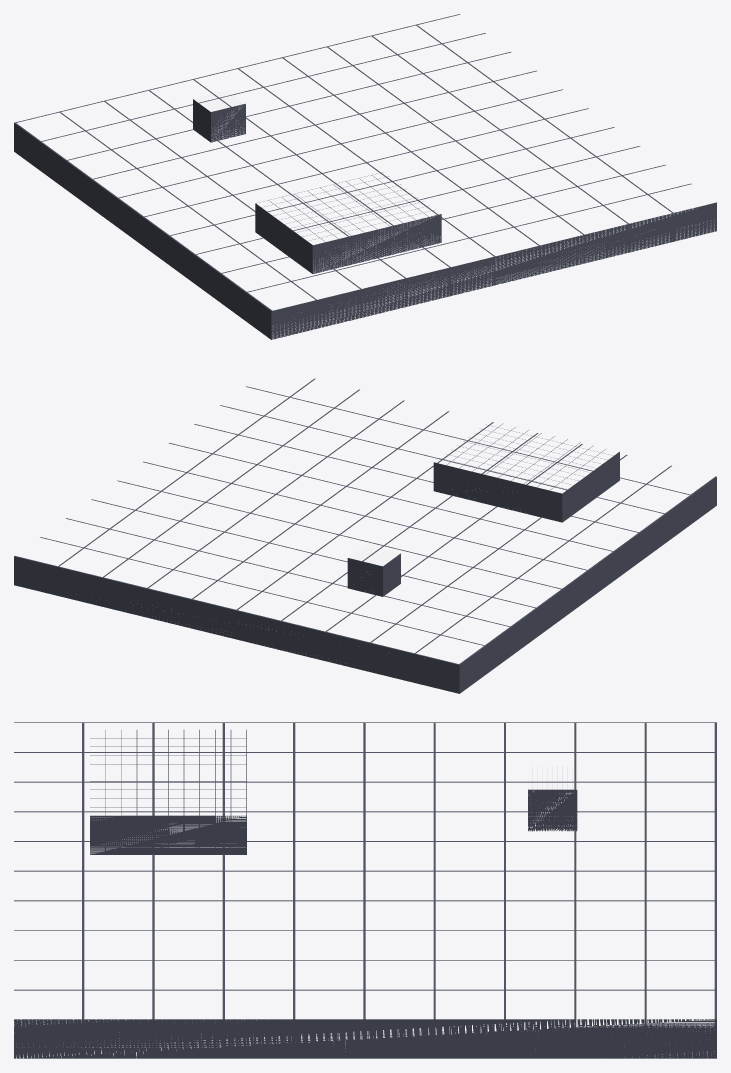
Rendered from track.gltf.
3 views of the same model, one above another, from view 1: azimuth 30°, elevation 25°; view 2: azimuth 150°, elevation 25°; view 3: azimuth 270°, elevation 25° (orthographic). The views are drawn at different scales.
Visible parts, largest first — view 1: pPlane1, pPlane1.001, pPlane1.002; view 2: pPlane1, pPlane1.001, pPlane1.002; view 3: pPlane1, pPlane1.001, pPlane1.002.
Part boxes in pixels (left/top/right/bottom): pPlane1: left=14, top=14, right=716, bottom=339; pPlane1.001: left=255, top=172, right=441, bottom=273; pPlane1.002: left=193, top=92, right=245, bottom=142; pPlane1: left=14, top=378, right=716, bottom=693; pPlane1.001: left=433, top=423, right=619, bottom=522; pPlane1.002: left=347, top=549, right=400, bottom=596; pPlane1: left=14, top=722, right=716, bottom=1058; pPlane1.001: left=90, top=729, right=246, bottom=854; pPlane1.002: left=528, top=767, right=577, bottom=831.
Size of the model in its own units: 20 by 2.53 by 20.
3 materials, 3 textured.
